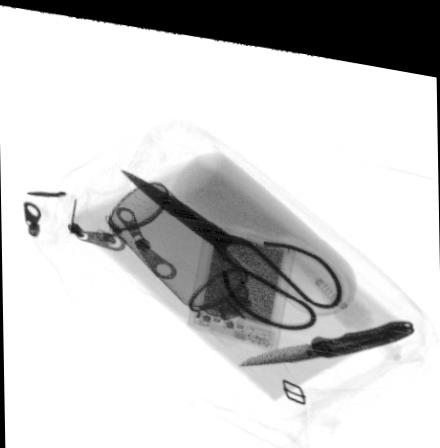Knife: (236, 303, 415, 358)
Powerbank: (186, 210, 296, 344)
Scissors: (113, 157, 341, 319)
Sprayer: (103, 175, 270, 335)
